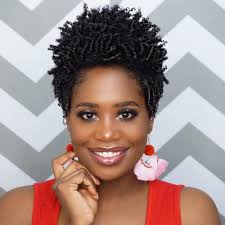black_female: (42, 2, 185, 192)
